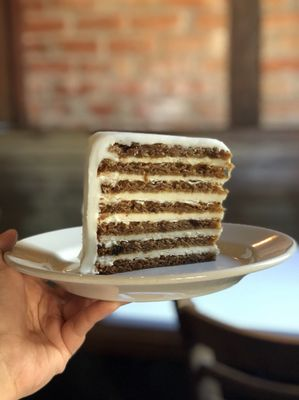sushi: (87, 133, 234, 274)
